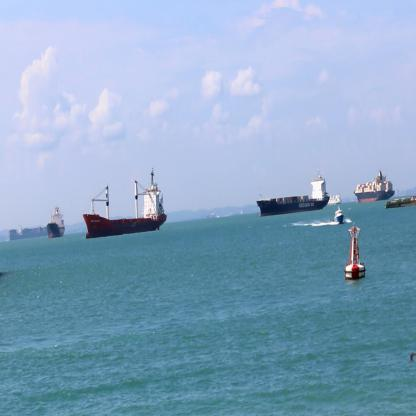Container Ship: (82, 167, 167, 238), (257, 170, 330, 216), (353, 168, 395, 203), (46, 204, 64, 240), (8, 226, 47, 242), (384, 195, 416, 209), (328, 192, 342, 204)
